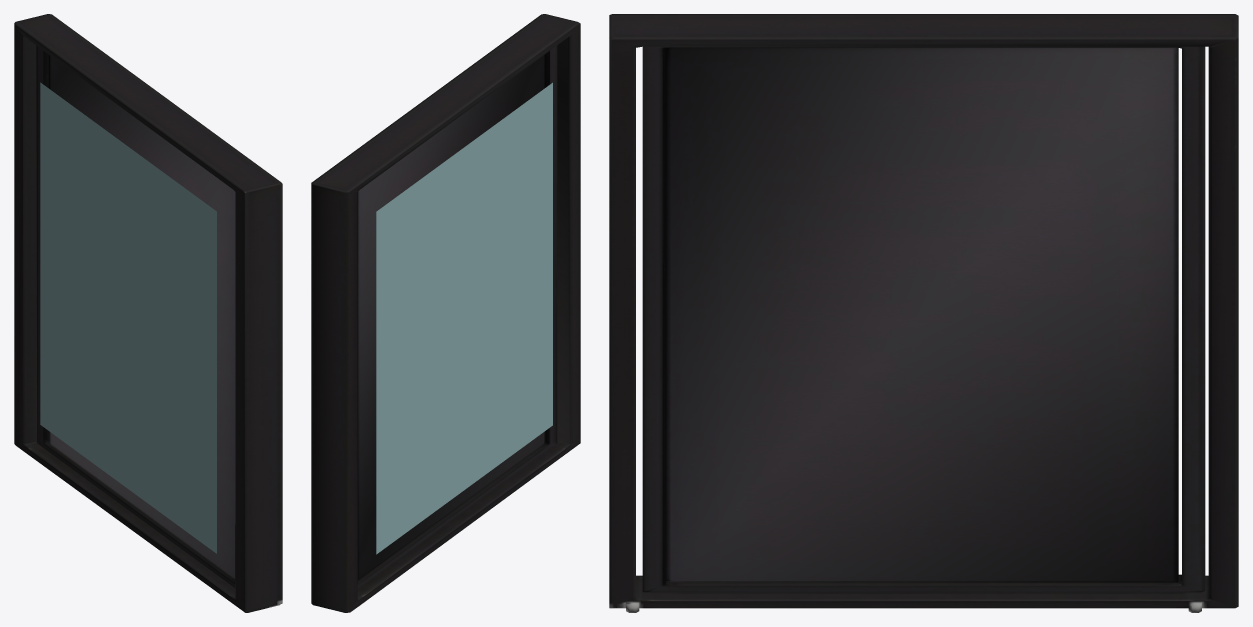
The model's file is SM_Window_TallGlass_1x1_01.glb.
3 views of the same model, side by side, from view 1: azimuth 30°, elevation 25°; view 2: azimuth 150°, elevation 25°; view 3: azimuth 270°, elevation 25° (orthographic). The views are drawn at different scales.
Visible parts, largest first — view 1: WindowFrame_Tripo_Cleaned_1x1, GlassPanel_ColorOnly; view 2: WindowFrame_Tripo_Cleaned_1x1, GlassPanel_ColorOnly; view 3: WindowFrame_Tripo_Cleaned_1x1.
Part boxes in pixels (x1,y1,x2,y2): WindowFrame_Tripo_Cleaned_1x1: (14,14,282,612); GlassPanel_ColorOnly: (40,82,216,553); WindowFrame_Tripo_Cleaned_1x1: (311,14,580,612); GlassPanel_ColorOnly: (376,82,552,554); WindowFrame_Tripo_Cleaned_1x1: (609,14,1238,612).
Bounding box in the file's own units: 0.0808 × 0.75 × 0.75.
Materials: 2 (1 with a texture image).
